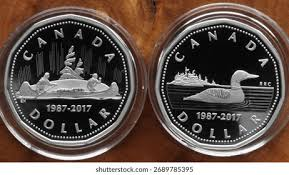coin: (4, 13, 137, 147), (154, 18, 284, 154)
